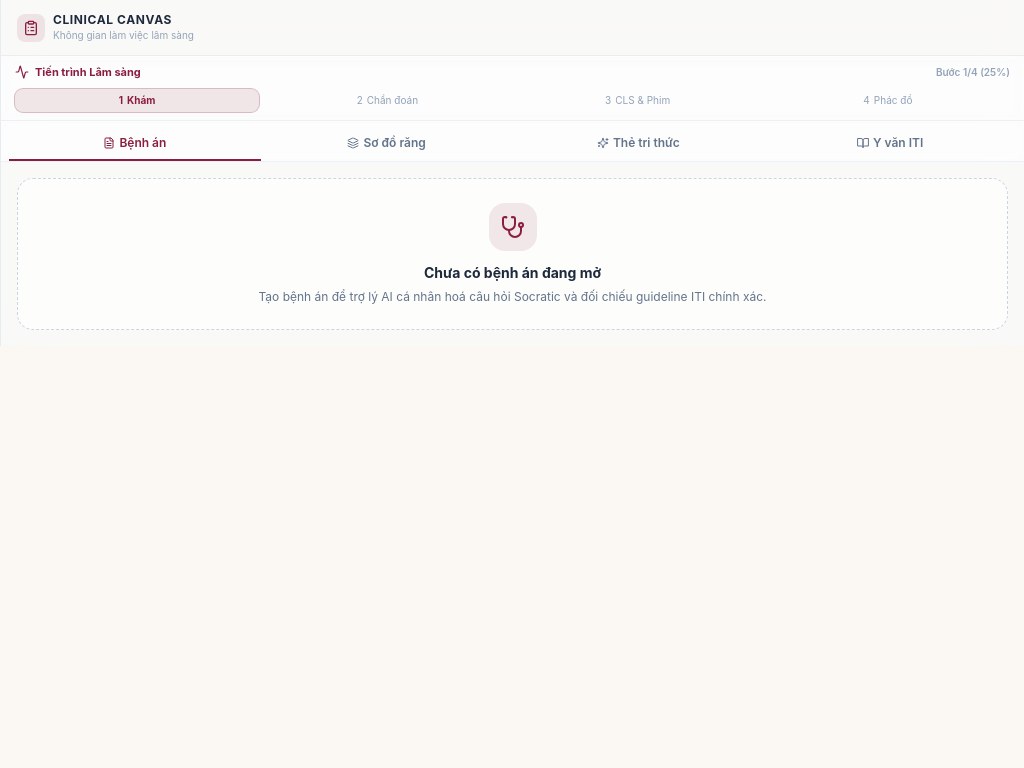
ClinicalStudioCanvas › switches to guidelines tab and shows ITI Consensus
Step 1. Click the button "Y văn ITI" → coordinates (890, 144), box [764,126,1016,160]
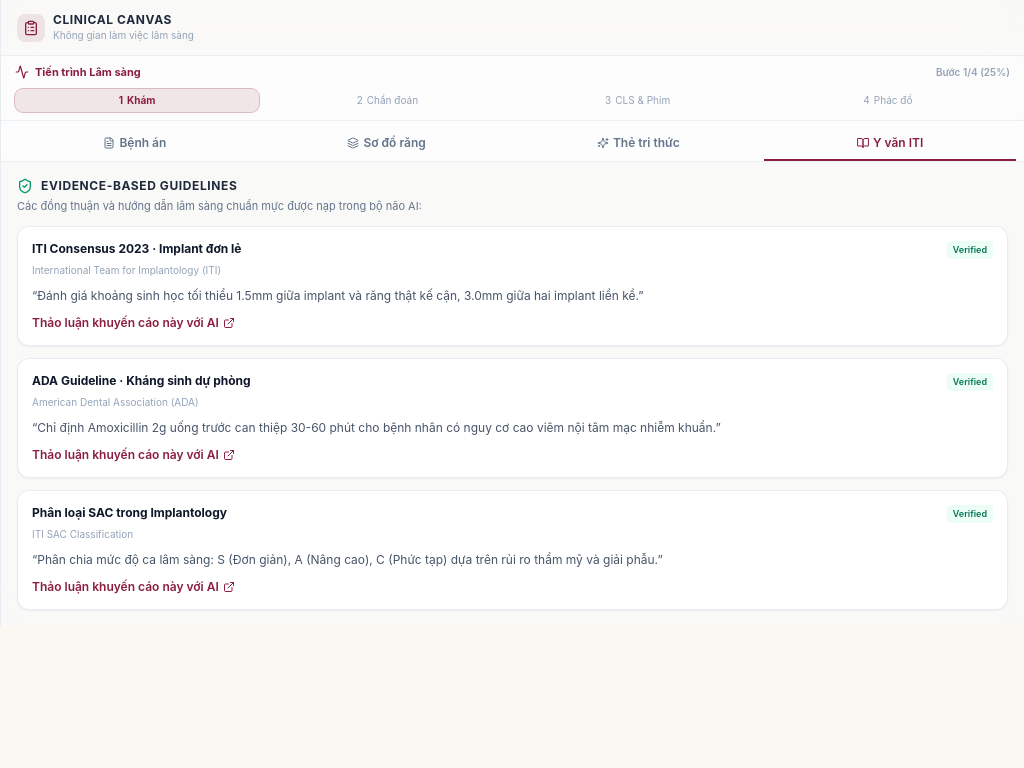
Expected: the heading "ITI Consensus 2023 · Implant đơn lẻ" is shown, [32,241,242,257]
